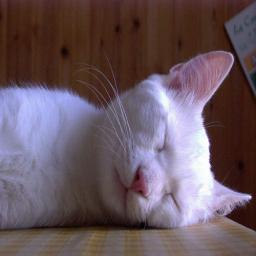catnose: (132, 162, 150, 198)
